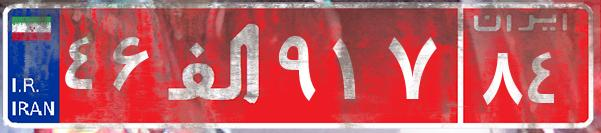1: (330, 28, 385, 110)
4: (57, 26, 110, 107), (525, 38, 570, 115)
6: (110, 28, 158, 105)
7: (385, 28, 445, 110)
8: (475, 38, 525, 113)
9: (273, 28, 330, 110)
الف: (158, 15, 273, 115)
